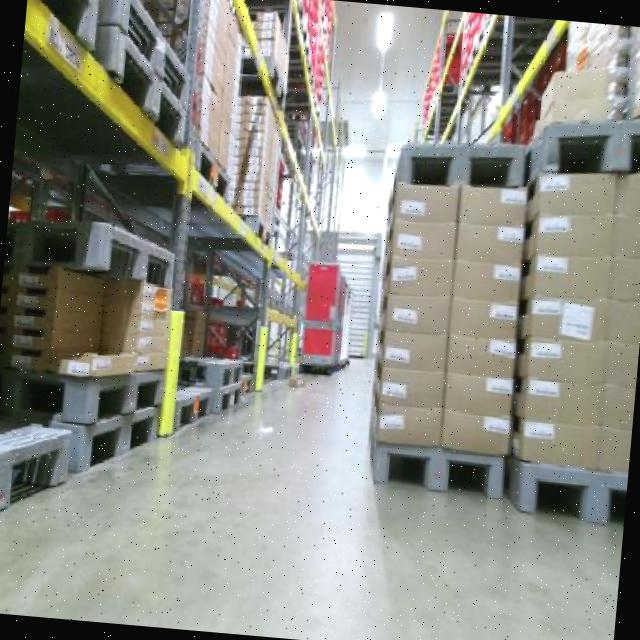pallet: (93, 25, 196, 156), (362, 436, 508, 510), (99, 0, 193, 112), (8, 223, 177, 285), (392, 131, 540, 196), (530, 101, 640, 182), (511, 455, 628, 529), (69, 403, 164, 473), (0, 416, 68, 510), (67, 367, 168, 426), (172, 387, 217, 431), (181, 359, 245, 386), (214, 379, 251, 418)
